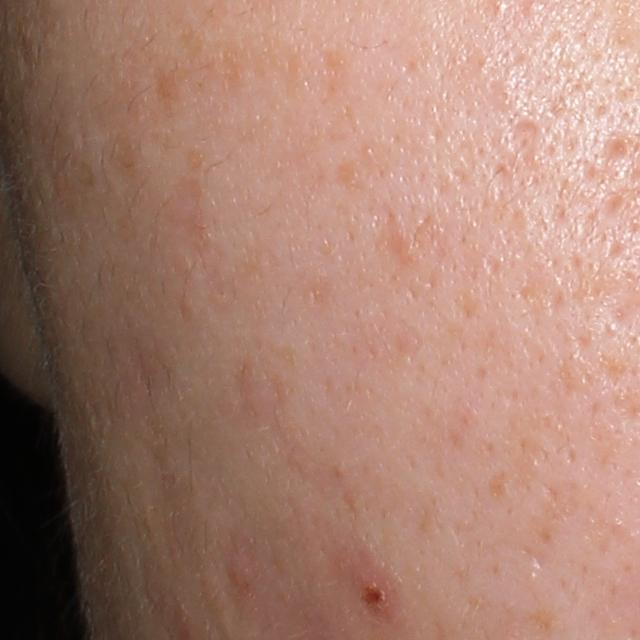atrophic_scar: (500, 111, 543, 165)
papule: (356, 566, 395, 618)
